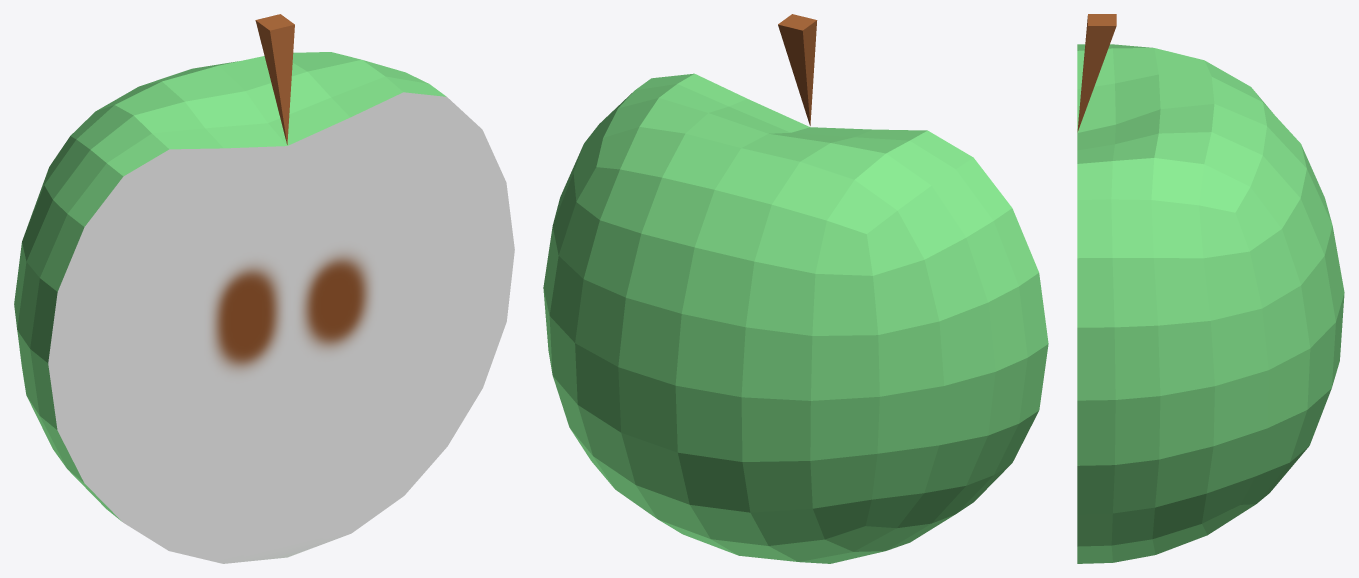
Rendered from apple1.glb.
3 views of the same model, side by side, from view 1: azimuth 30°, elevation 25°; view 2: azimuth 150°, elevation 25°; view 3: azimuth 270°, elevation 25° (orthographic).
Parts seen in each view (by area): view 1: ApplePiece1; view 2: ApplePiece1; view 3: ApplePiece1.
Part boxes in pixels (x1,y1,x2,y2): ApplePiece1: (14,14,514,563); ApplePiece1: (543,14,1048,563); ApplePiece1: (1077,14,1344,563).
Bounding box in the file's own units: 3.06 × 3.29 × 1.53.
Materials: 1 (1 with a texture image).
